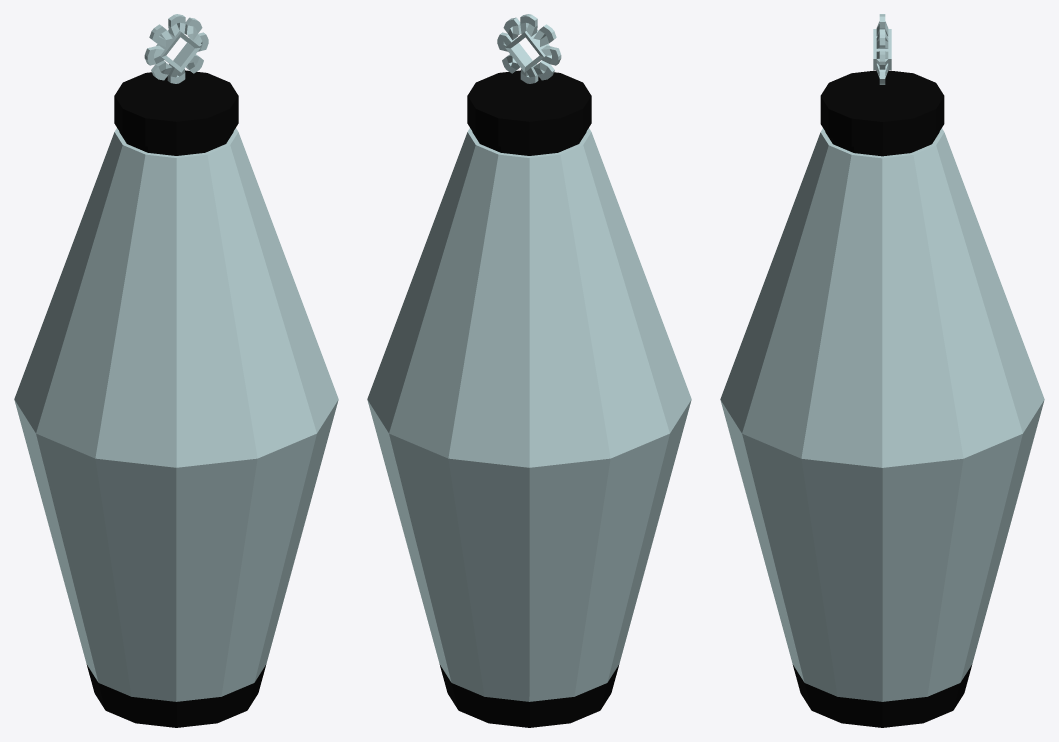
Rendered from IceContainer.fbx.
3 renders of one model, left to right at view 1: azimuth 30°, elevation 25°; view 2: azimuth 150°, elevation 25°; view 3: azimuth 270°, elevation 25°, orthographic.
Parts seen in each view (by area): view 1: IceContainer, Cube.003; view 2: IceContainer, Cube.003; view 3: IceContainer, Cube.003.
Boxes of the visible parts, x1,y1,x2,y2 form: IceContainer: [14, 70, 338, 727]; Cube.003: [144, 14, 208, 83]; IceContainer: [367, 70, 691, 727]; Cube.003: [497, 14, 561, 83]; IceContainer: [720, 70, 1044, 727]; Cube.003: [873, 14, 891, 84].
Bounding box in the file's own units: 0.4151 × 0.4151 × 0.9566.
